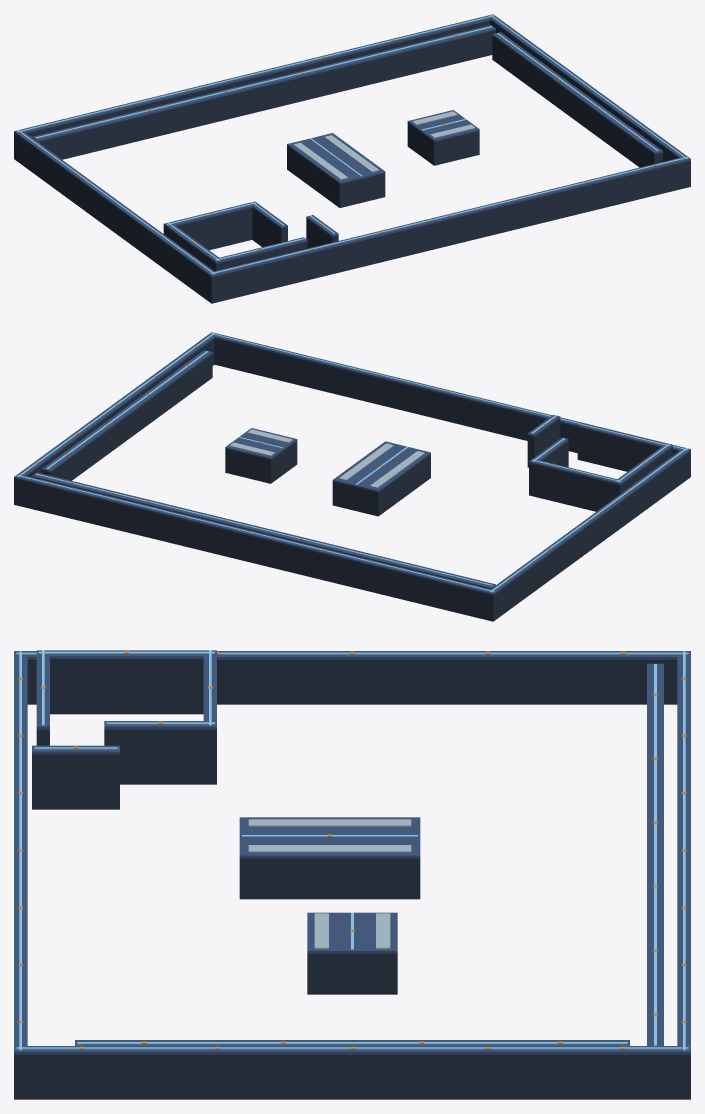
Rendered from campaign_echo.runtime.gltf.
3 views of the same model, one above another, from view 1: azimuth 30°, elevation 25°; view 2: azimuth 150°, elevation 25°; view 3: azimuth 270°, elevation 25° (orthographic). The views are drawn at different scales.
Visible parts, largest first — view 1: BATCH material 0, BATCH material 1, BATCH material 3, BATCH material 2; view 2: BATCH material 0, BATCH material 1, BATCH material 3, BATCH material 2; view 3: BATCH material 0, BATCH material 1, BATCH material 3, BATCH material 2.
Part boxes in pixels (left/top/right/bottom): BATCH material 0: left=14, top=20, right=690, bottom=303; BATCH material 1: left=14, top=14, right=690, bottom=277; BATCH material 3: left=16, top=15, right=688, bottom=274; BATCH material 2: left=293, top=111, right=475, bottom=179; BATCH material 0: left=14, top=338, right=690, bottom=621; BATCH material 1: left=14, top=332, right=690, bottom=595; BATCH material 3: left=16, top=333, right=688, bottom=592; BATCH material 2: left=229, top=429, right=424, bottom=487; BATCH material 0: left=14, top=659, right=690, bottom=1099; BATCH material 1: left=14, top=650, right=690, bottom=1054; BATCH material 3: left=16, top=650, right=688, bottom=1050; BATCH material 2: left=248, top=819, right=411, bottom=948.
Bounding box in the file's own units: 21 × 1.45 × 15.
